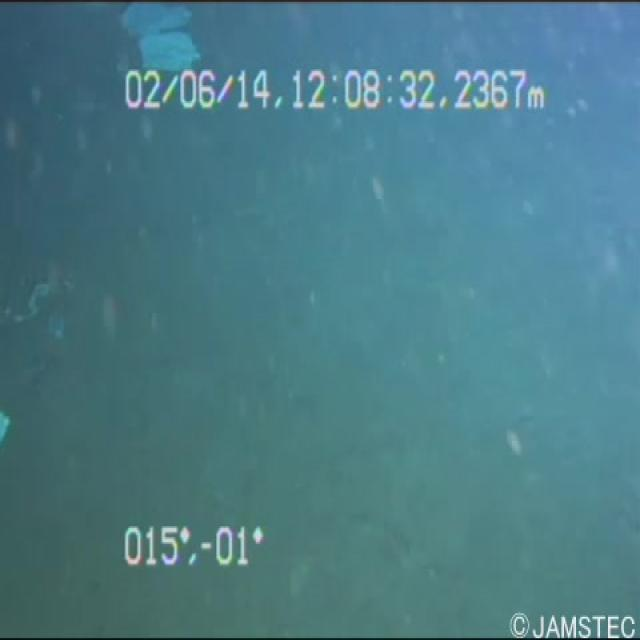plastic: (109, 0, 208, 80)
